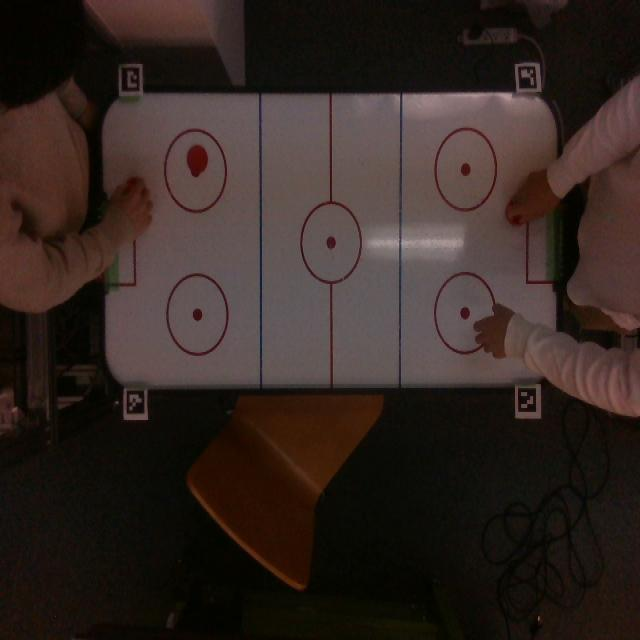puck: (187, 145, 208, 173)
